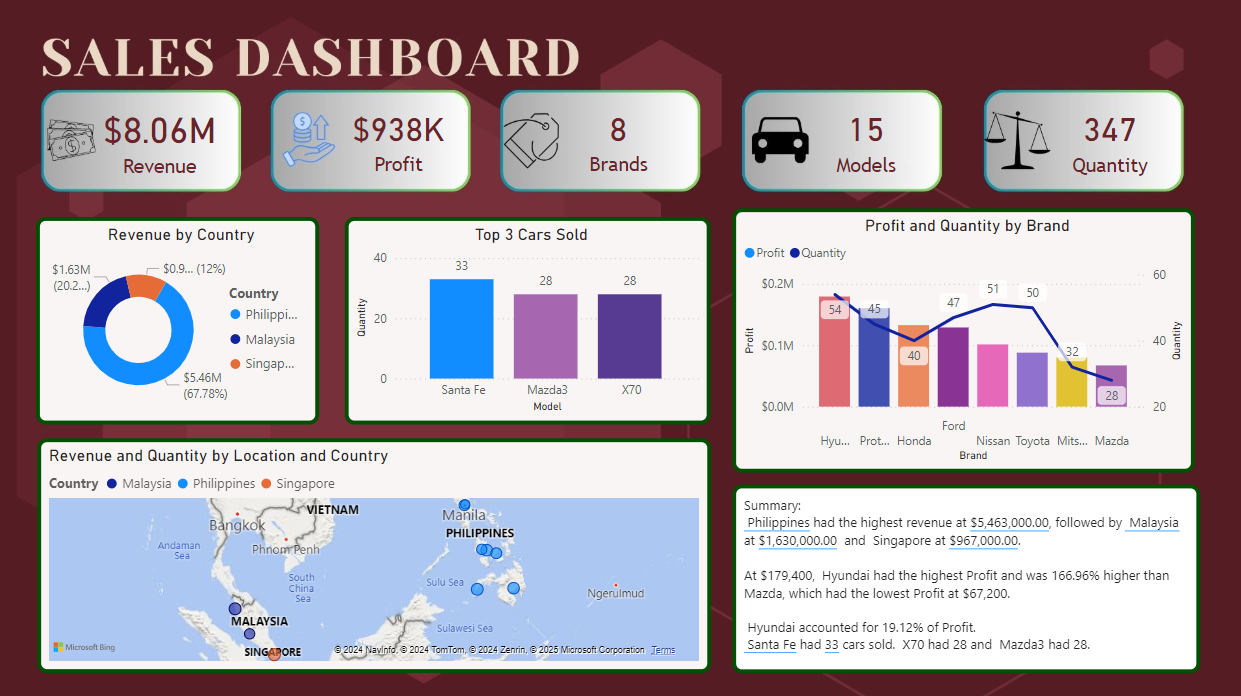

This screenshot's page, from the dashboard's own definition file:
{"tool":"powerbi","page":{"name":"Page 1","canvas":[1280,720],"ordinal":0},"visuals":[{"type":"donutChart","title":"Revenue by Country","fields":{"Y":["Sum(Sales.TotalPrice)"],"Category":["Dealers.Country"]},"box":[41.2,226.2,290,212.5],"z":0},{"type":"columnChart","title":"Top 3 Cars Sold","fields":{"Category":["Models.Model"],"Y":["Sum(factSales.Quantity)"]},"box":[357.5,226.2,375,212.5],"z":1000},{"type":"lineStackedColumnComboChart","title":"Profit and Quantity by Brand","fields":{"Category":["dimModels.Brand"],"Y2":["Sum(factSales.Quantity)"],"Y":["Sum(factSales.Total Profit)"]},"box":[747.1,217.1,482.9,221.4],"z":3000},{"type":"map","title":"Revenue and Quantity by Location and Country","fields":{"Series":["dimDealers.Country"],"Category":["dimDealers.Location"],"Size":["Sum(factSales.TotalPrice)"]},"box":[41.7,451.7,718.3,241.7],"z":4000},{"type":"card","fields":{"Values":["Sum(factSales.TotalPrice)"]},"box":[73.8,96.2,187.5,97.5],"z":5000},{"type":"card","fields":{"Values":["Sum(factSales.Total Profit)"]},"box":[318.8,96.2,187.5,97.5],"z":6000},{"type":"card","fields":{"Values":["Count(dimModels.Brand)"]},"box":[545,96.2,187.5,97.5],"z":7000},{"type":"card","fields":{"Values":["Count(dimModels.Model)"]},"box":[798.3,96.3,187.9,97.8],"z":8000},{"type":"card","fields":{"Values":["Sum(factSales.Quantity)"]},"box":[1048.3,96.3,187.9,97.8],"z":9000},{"type":"textbox","box":[777.1,451.4,452.9,241.4],"z":10000}]}

Visuals, with their boxes in screenshot pixels (x1, y1, x2, y2), scaled from the page's 1280x720 canvas onto the 1241x696 screenshot:
"Revenue by Country" donutChart: box(40, 219, 321, 424)
"Top 3 Cars Sold" columnChart: box(347, 219, 710, 424)
"Profit and Quantity by Brand" lineStackedColumnComboChart: box(724, 210, 1193, 424)
"Revenue and Quantity by Location and Country" map: box(40, 437, 737, 670)
card - Sum(factSales.TotalPrice): box(72, 93, 253, 187)
card - Sum(factSales.Total Profit): box(309, 93, 491, 187)
card - Count(dimModels.Brand): box(528, 93, 710, 187)
card - Count(dimModels.Model): box(774, 93, 956, 188)
card - Sum(factSales.Quantity): box(1016, 93, 1199, 188)
textbox: box(753, 436, 1193, 670)
